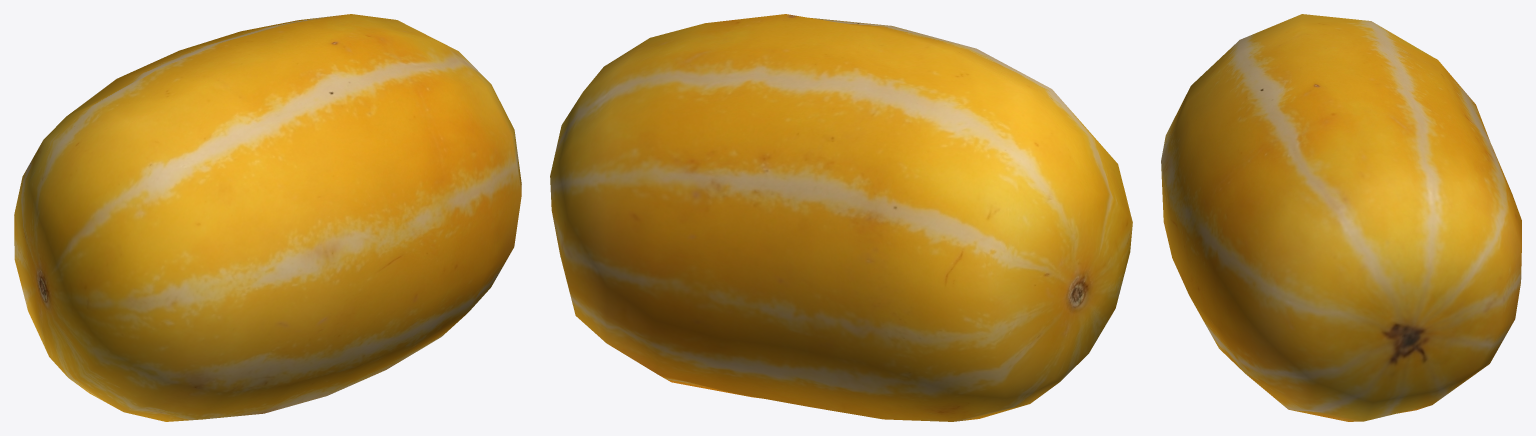
The model's file is A97_Cantaloupe_low.fbx.
3 views of the same model, side by side, from view 1: azimuth 30°, elevation 25°; view 2: azimuth 150°, elevation 25°; view 3: azimuth 270°, elevation 25° (orthographic). The views are drawn at different scales.
Parts seen in each view (by area): view 1: A97_Cantaloupe_low; view 2: A97_Cantaloupe_low; view 3: A97_Cantaloupe_low.
Part boxes in pixels (left/top/right/bottom): A97_Cantaloupe_low: left=14, top=14, right=521, bottom=421; A97_Cantaloupe_low: left=550, top=14, right=1132, bottom=421; A97_Cantaloupe_low: left=1161, top=14, right=1521, bottom=421.
Bounding box in the file's own units: 29.23 × 20.89 × 19.84.
Materials: 1 (1 with a texture image).
